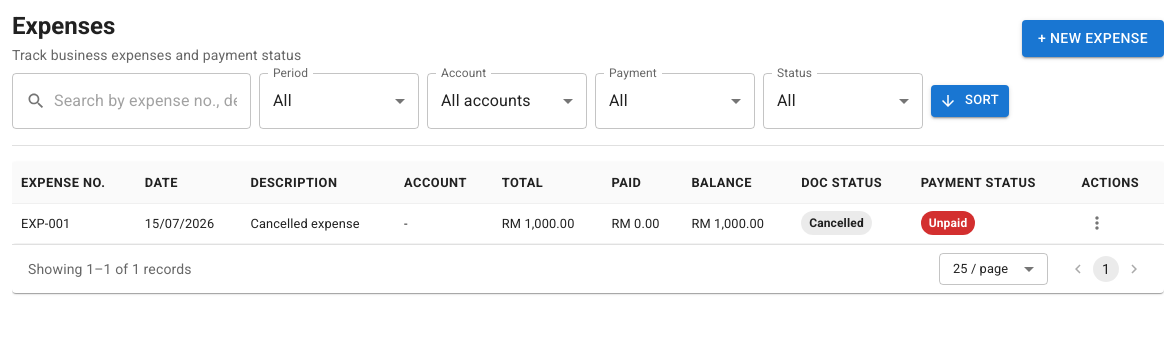
Scenario: ExpensesPage › offers View and Uncancel on a cancelled row
This screenshot has width=1176, height=348.
Click the button named "row actions" at (1097, 223), box top-left (1082, 208), bottom-right (1112, 238)
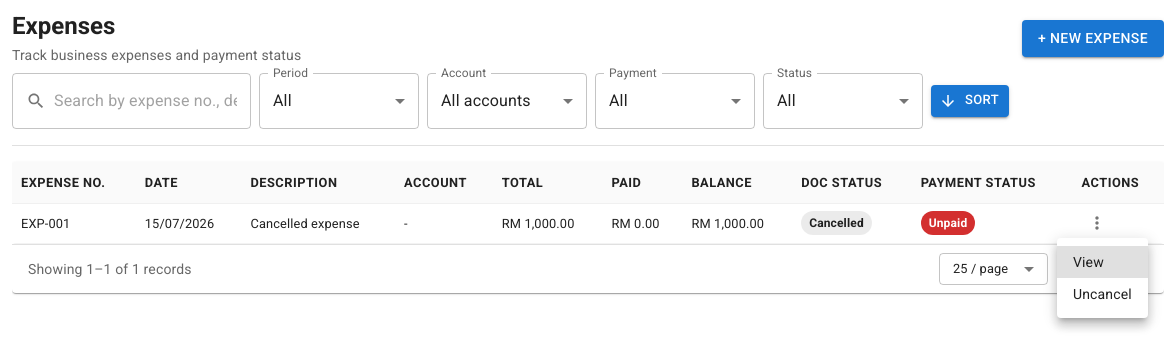
Check: the menu item "View" is shown, box top-left (1057, 246), bottom-right (1148, 278)
Check: the menu item "Uncancel" is shown, box top-left (1073, 286), bottom-right (1132, 302)
